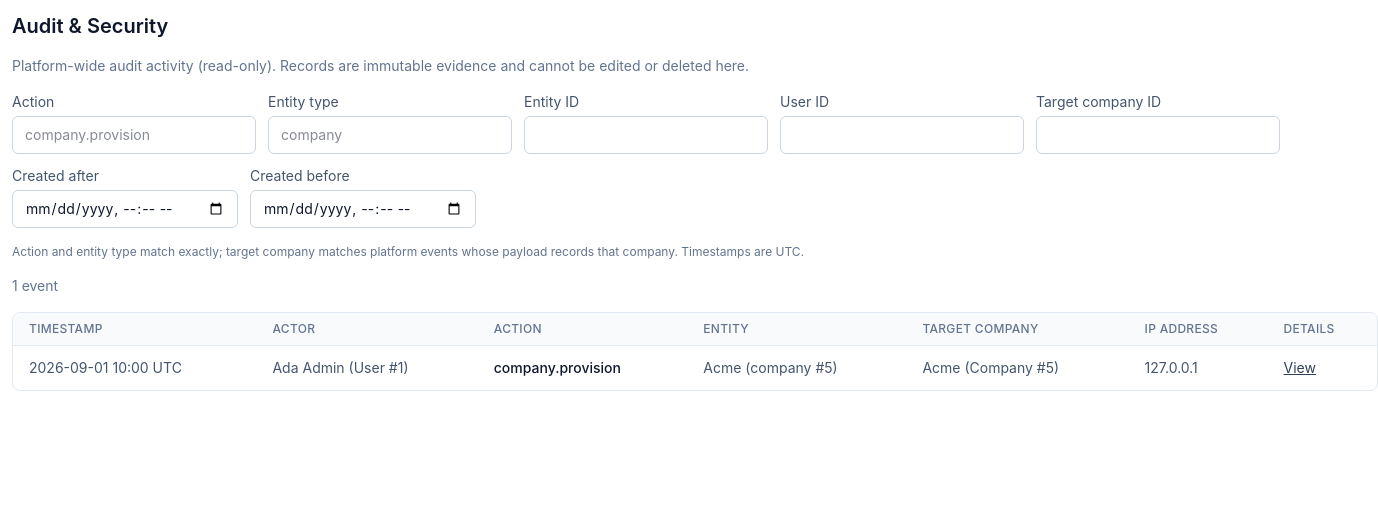
it: AdminAuditPage › expands row details read-only
The image size is (1378, 517).
Expected: the text "company.provision" is shown, [478, 346, 687, 390]
Click the button "View" at coordinates (1300, 368), box [1284, 358, 1316, 378]
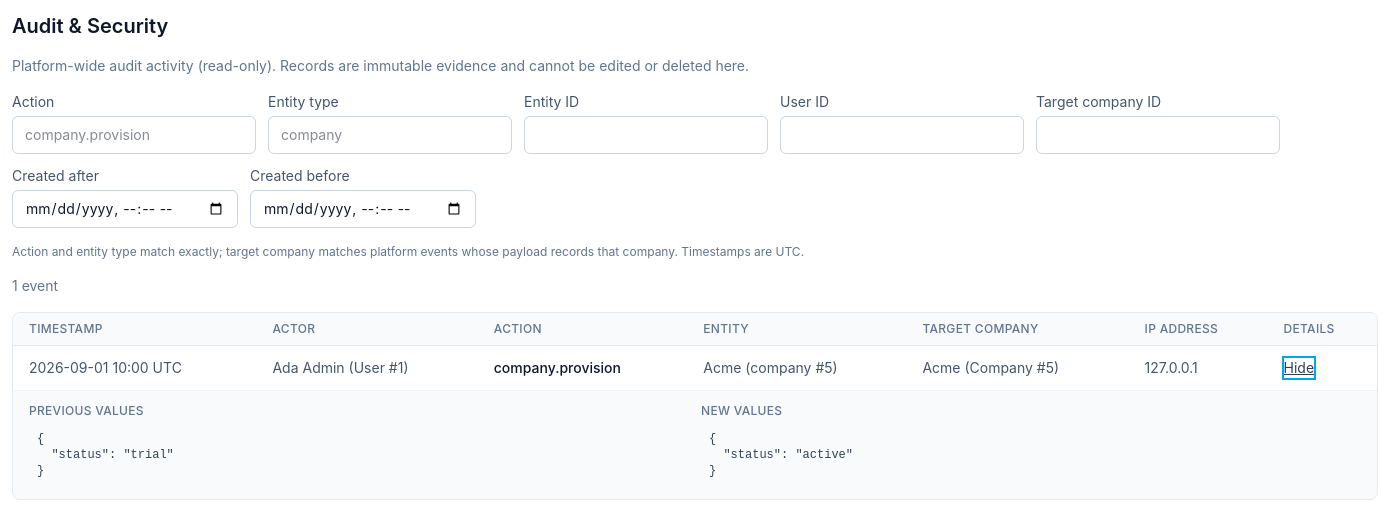
Expected: the text "Previous values" is shown, [29, 403, 144, 418]
Expected: the text "New values" is shown, [701, 403, 782, 418]
